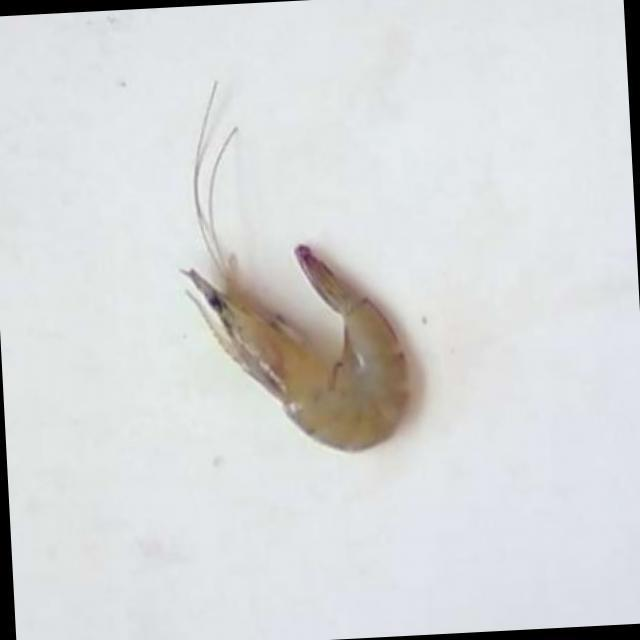shrimp: (183, 246, 411, 451)
